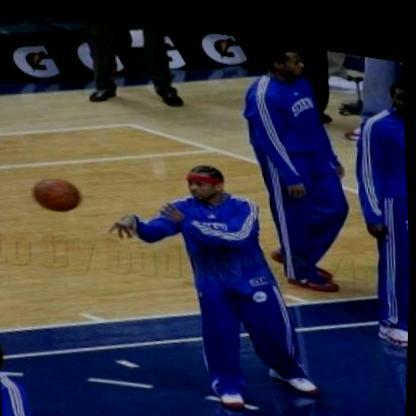basketball: (26, 165, 92, 219)
